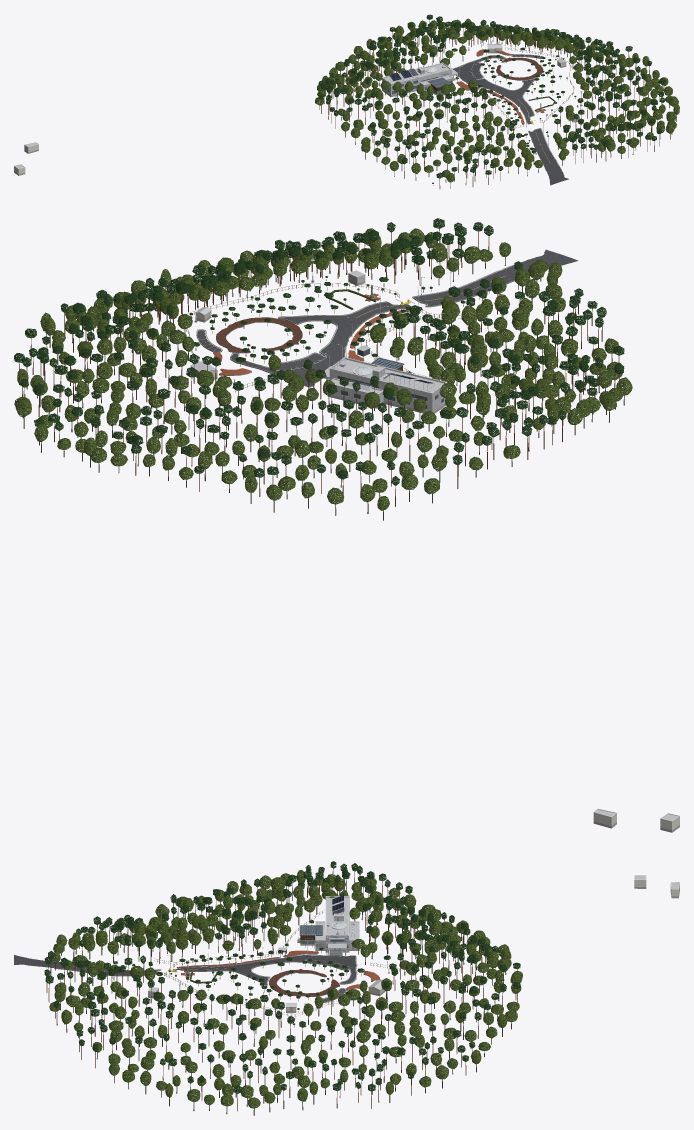
The model's file is site_twin.glb.
3 renders of one model, top to bottom at view 1: azimuth 30°, elevation 25°; view 2: azimuth 150°, elevation 25°; view 3: azimuth 270°, elevation 25°, orthographic. The views are drawn at different scales.
Parts seen in each view (by area): view 1: Trees_3_4, Trees_5_3, Trees_3_5, Trees_3_3, Trees_4_3, Road, Trees_5_4, Trees_5_5, Trees_4_5, Trees_6_4, Trees_4_6, Trees_4_4 (+9 smaller); view 2: Trees_3_5, Trees_3_4, Trees_4_6, Trees_5_5, Trees_4_3, Trees_3_3, Trees_5_6, Trees_4_5, Road, Trees_5_4, Trees_5_3, Trees_3_6 (+8 smaller); view 3: Trees_5_3, Trees_5_5, Trees_3_4, Trees_3_5, Trees_5_4, Trees_4_3, Trees_6_4, Trees_5_6, Trees_4_6, Trees_6_5, Trees_4_5, Trees_4_4 (+10 smaller).
Boxes of the visible parts, <box> form: Trees_3_4: <box>362,84,480,170</box>; Trees_5_3: <box>577,89,674,157</box>; Trees_3_5: <box>317,51,419,119</box>; Trees_3_3: <box>401,134,521,188</box>; Trees_4_3: <box>487,105,605,176</box>; Road: <box>453,54,568,185</box>; Trees_5_4: <box>527,50,644,113</box>; Trees_5_5: <box>476,24,592,63</box>; Trees_4_5: <box>392,25,507,81</box>; Trees_6_4: <box>607,56,678,113</box>; Trees_4_6: <box>366,14,460,62</box>; Trees_4_4: <box>441,71,557,136</box>; Trees_3_5: <box>318,363,531,503</box>; Trees_3_4: <box>407,318,612,419</box>; Trees_4_6: <box>131,389,309,503</box>; Trees_5_5: <box>53,298,247,412</box>; Trees_4_3: <box>363,226,562,332</box>; Trees_3_3: <box>493,271,624,392</box>; Trees_5_6: <box>34,380,170,472</box>; Trees_4_5: <box>178,340,360,442</box>; Road: <box>197,249,578,385</box>; Trees_5_4: <box>134,248,330,328</box>; Trees_5_3: <box>218,222,424,289</box>; Trees_3_6: <box>266,425,418,520</box>; Trees_5_3: <box>54,974,182,1083</box>; Trees_5_5: <box>303,968,430,1069</box>; Trees_3_4: <box>177,874,305,948</box>; Trees_3_5: <box>303,870,435,945</box>; Trees_5_4: <box>177,976,306,1072</box>; Trees_4_3: <box>53,932,176,1003</box>; Trees_6_4: <box>185,1046,310,1115</box>; Trees_5_6: <box>424,976,519,1075</box>; Trees_4_6: <box>427,932,522,1005</box>; Trees_6_5: <box>300,1039,431,1108</box>; Trees_4_5: <box>302,914,432,990</box>; Trees_4_4: <box>175,914,293,982</box>.
Bounding box in the file's own units: 369 × 87.47 × 320.
66 materials, 27 textured.
